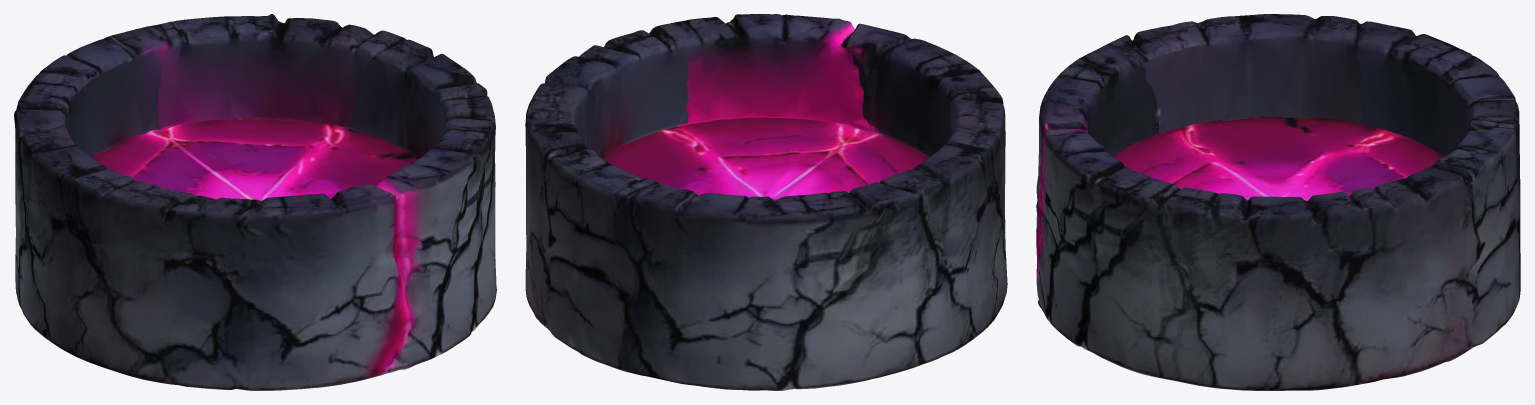
Rendered from hvergelmir-basin-pool-generated-2026-05-17T18-13-31-696Z.low.glb.
3 views of the same model, side by side, from view 1: azimuth 30°, elevation 25°; view 2: azimuth 150°, elevation 25°; view 3: azimuth 270°, elevation 25° (orthographic).
Parts seen in each view (by area): view 1: temp_mesh.ply; view 2: temp_mesh.ply; view 3: temp_mesh.ply.
Part boxes in pixels (x1,y1,x2,y2): temp_mesh.ply: (14,14,496,390); temp_mesh.ply: (525,14,1007,390); temp_mesh.ply: (1036,14,1520,390).
Bounding box in the file's own units: 1.97 × 0.8096 × 1.97.
1 material, 1 textured.
